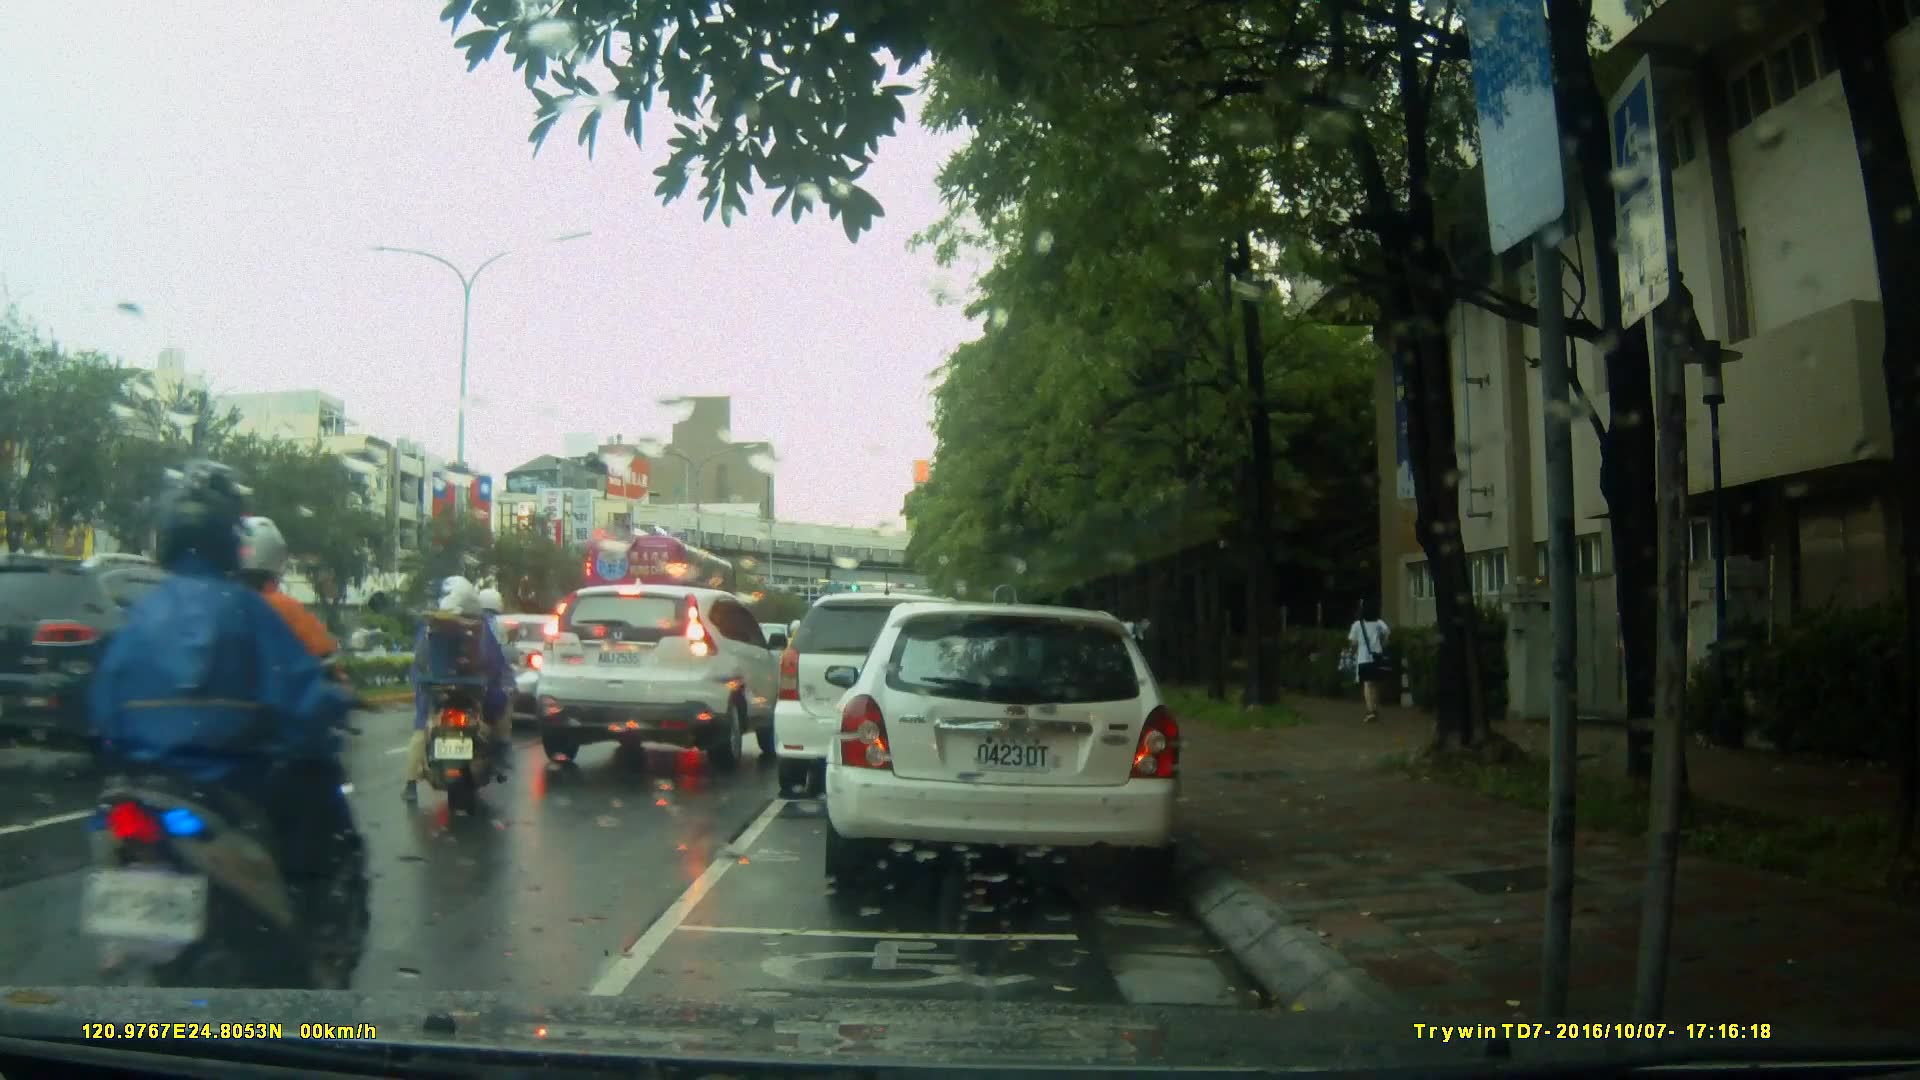pedestrian: (1336, 587, 1399, 739), (1115, 603, 1143, 684)
rider: (55, 451, 366, 1020), (409, 585, 517, 811), (435, 591, 512, 773)
vehicle: (835, 594, 1194, 898), (1, 549, 297, 768), (521, 584, 801, 777), (776, 590, 1026, 784), (580, 532, 739, 634)
